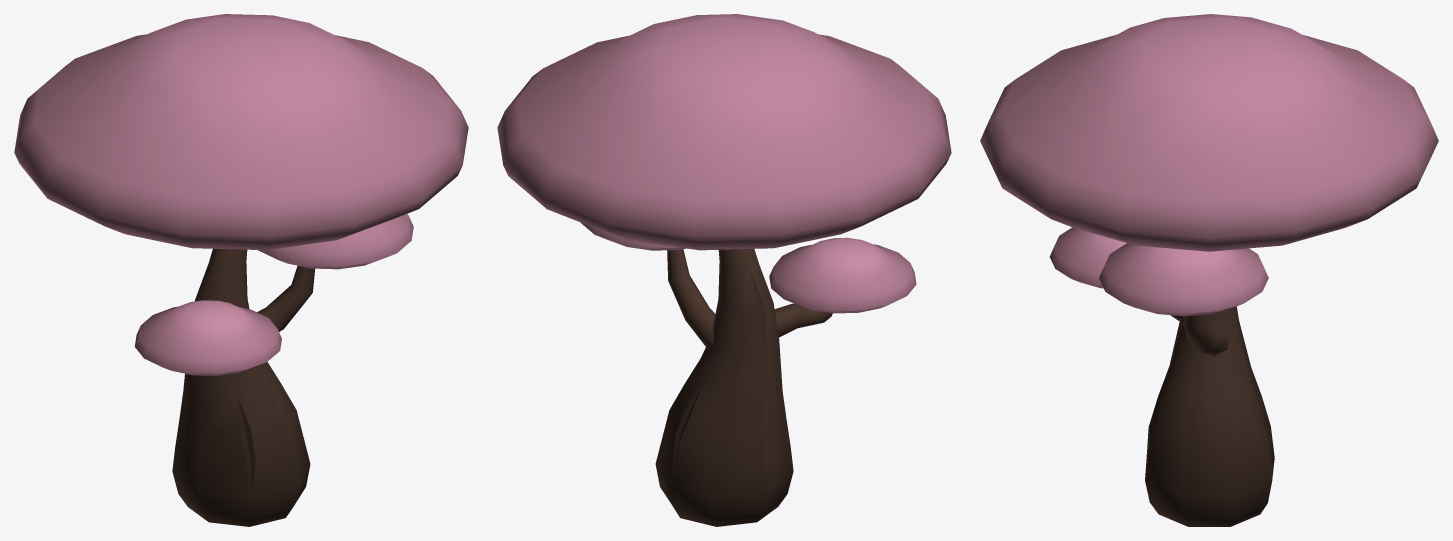
The model's file is tree_cherry_2.glb.
3 renders of one model, left to right at view 1: azimuth 30°, elevation 25°; view 2: azimuth 150°, elevation 25°; view 3: azimuth 270°, elevation 25°, orthographic.
Parts seen in each view (by area): view 1: tree_cherry_2; view 2: tree_cherry_2; view 3: tree_cherry_2.
Boxes of the visible parts, box(x1,y1,x2,y2) form: tree_cherry_2: box(14, 14, 468, 526); tree_cherry_2: box(497, 14, 951, 526); tree_cherry_2: box(980, 14, 1438, 526).
Size of the model in its own units: 5.29 by 6 by 5.29.
